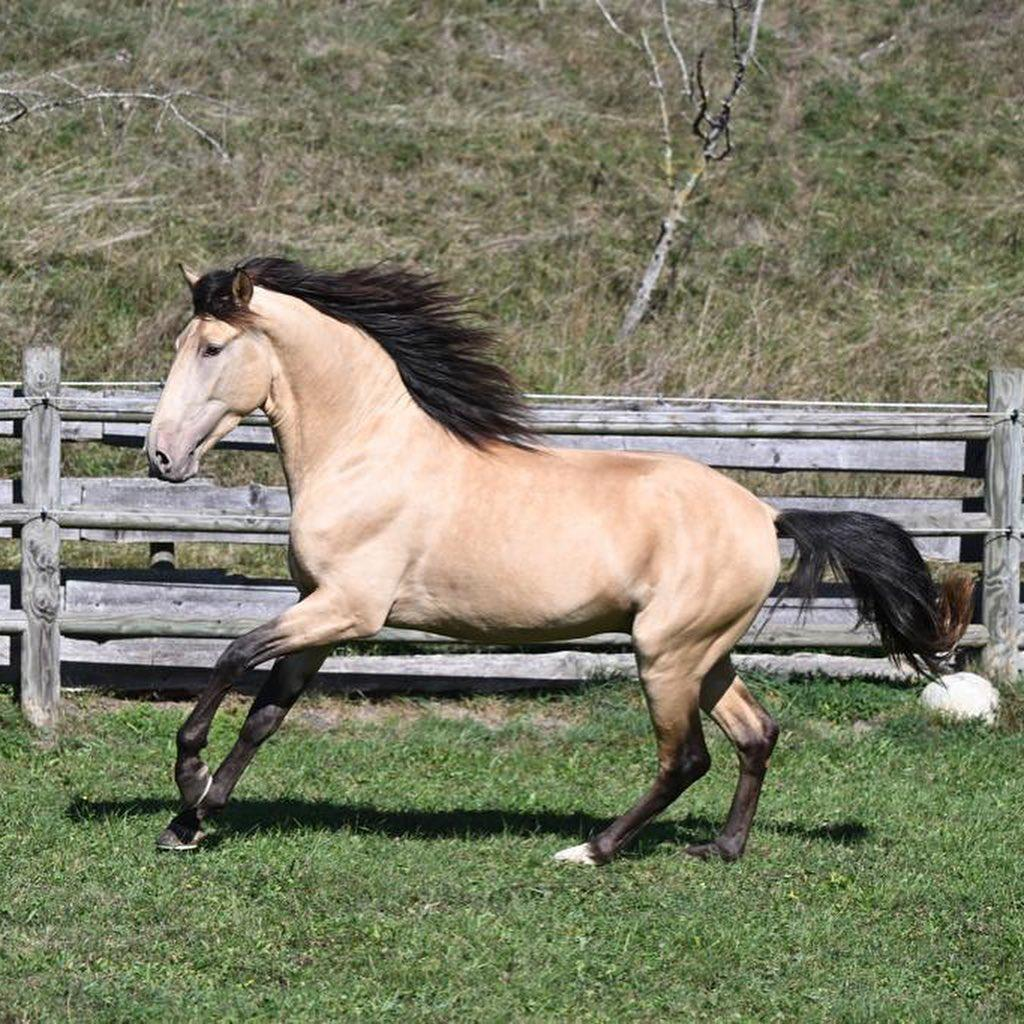horse: (143, 253, 978, 869)
